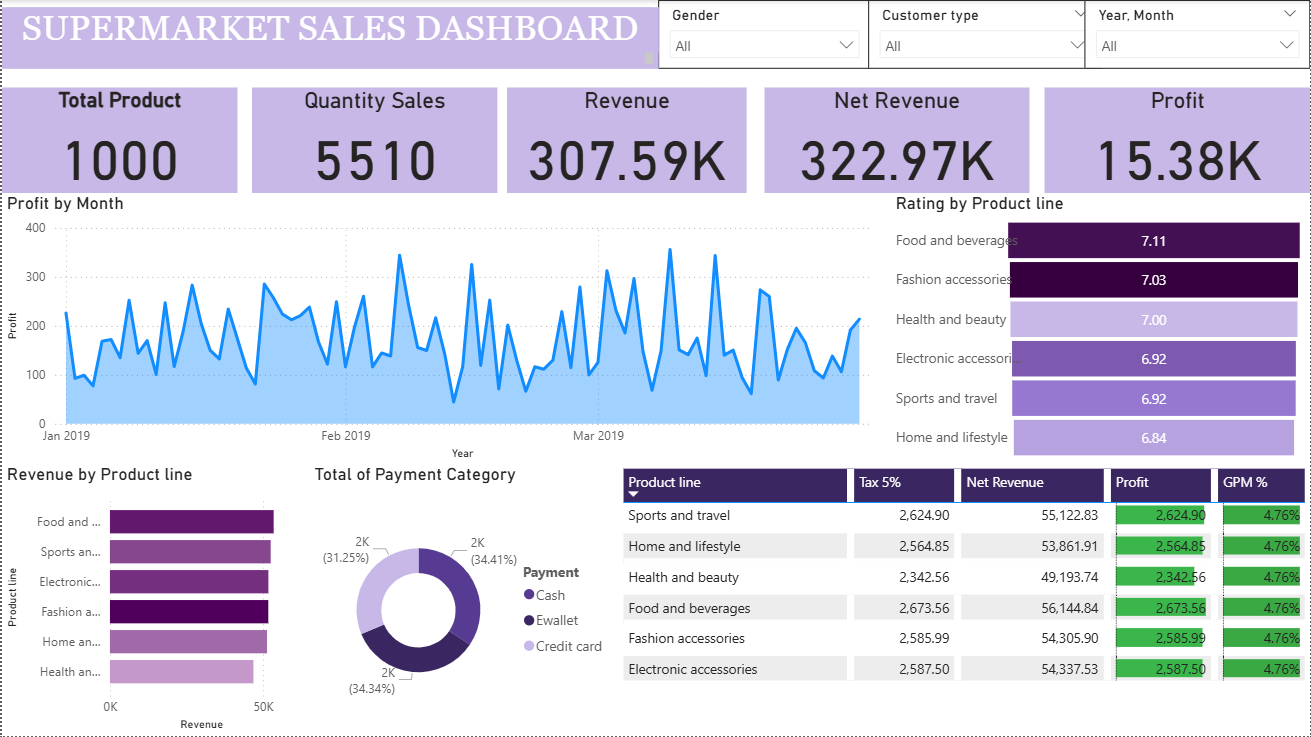

The dashboard page shown, as its layout file describes it:
{"tool":"powerbi","page":{"name":"Page 1","canvas":[1280,720],"ordinal":0},"visuals":[{"type":"tableEx","fields":{"Values":["SuperMarket Analysis.Product line","SuperMarket Analysis.Tax 5%","SuperMarket Analysis.Net Revenue","SuperMarket Analysis.Profit","SuperMarket Analysis.GPM"]},"box":[601,454.2,679.2,256.6],"z":0},{"type":"donutChart","title":"Total of Payment  Category","fields":{"Y":["Sum(SuperMarket Analysis.Quantity)"],"Category":["SuperMarket Analysis.Payment"]},"box":[300.5,454.2,300.5,266.2],"z":1000},{"type":"barChart","fields":{"Category":["SuperMarket Analysis.Product line"],"Y":["SuperMarket Analysis.Revenue"]},"box":[0,454.2,300.5,266.2],"z":2000},{"type":"areaChart","title":"Profit by Month","fields":{"Y":["SuperMarket Analysis.Profit"],"Category":["SuperMarket Analysis.Date.Variation.Date Hierarchy.Year","SuperMarket Analysis.Date.Variation.Date Hierarchy.Quarter","SuperMarket Analysis.Date.Variation.Date Hierarchy.Month","SuperMarket Analysis.Date.Variation.Date Hierarchy.Day"]},"box":[0,188,870,266.2],"z":3000},{"type":"funnel","title":"Rating by Product line","fields":{"Y":["Avg(SuperMarket Analysis.Rating)"],"Category":["SuperMarket Analysis.Product line"]},"box":[870,188,410.3,266.2],"z":4000},{"type":"card","title":"Total Product","fields":{"Values":["CountNonNull(SuperMarket Analysis.Product line)"]},"box":[0,85.1,230.5,102.9],"z":5000},{"type":"card","title":"Quantity Sales","fields":{"Values":["Sum(SuperMarket Analysis.Quantity)"]},"box":[244.3,85.1,240.1,102.9],"z":6000},{"type":"card","title":"Revenue","fields":{"Values":["SuperMarket Analysis.Revenue"]},"box":[494,85.1,234.6,102.9],"z":7000},{"type":"card","title":"Net Revenue","fields":{"Values":["SuperMarket Analysis.Net Revenue"]},"box":[746.5,85.1,259.3,102.9],"z":8000},{"type":"card","title":"Profit","fields":{"Values":["SuperMarket Analysis.Profit"]},"box":[1019.6,85.1,260.7,102.9],"z":9000},{"type":"slicer","fields":{"Values":["SuperMarket Analysis.Gender"]},"box":[642.2,0,207.2,67.2],"z":10000},{"type":"slicer","fields":{"Values":["SuperMarket Analysis.Customer type"]},"box":[848,0,227.8,67.2],"z":11000},{"type":"slicer","fields":{"Values":["SuperMarket Analysis.Date.Variation.Date Hierarchy.Year","SuperMarket Analysis.Date.Variation.Date Hierarchy.Month"]},"box":[1059.4,0,220.9,67.2],"z":12000},{"type":"textbox","title":"SUPERMARKET SALES DASHBOARD","box":[0,6.9,642.2,60.4],"z":13000}]}

Visuals, with their boxes in screenshot pixels (x1, y1, x2, y2), scaled from the page's 1280x720 canvas onto the 1311x737 screenshot:
tableEx - SuperMarket Analysis.Product line x SuperMarket Analysis.Tax 5%: (x1=616, y1=465, x2=1310, y2=728)
"Total of Payment  Category" donutChart: (x1=308, y1=465, x2=616, y2=736)
barChart - SuperMarket Analysis.Product line x SuperMarket Analysis.Revenue: (x1=0, y1=465, x2=308, y2=736)
"Profit by Month" areaChart: (x1=0, y1=192, x2=891, y2=465)
"Rating by Product line" funnel: (x1=891, y1=192, x2=1310, y2=465)
"Total Product" card: (x1=0, y1=87, x2=236, y2=192)
"Quantity Sales" card: (x1=250, y1=87, x2=496, y2=192)
"Revenue" card: (x1=506, y1=87, x2=746, y2=192)
"Net Revenue" card: (x1=765, y1=87, x2=1030, y2=192)
"Profit" card: (x1=1044, y1=87, x2=1310, y2=192)
slicer - SuperMarket Analysis.Gender: (x1=658, y1=0, x2=870, y2=69)
slicer - SuperMarket Analysis.Customer type: (x1=869, y1=0, x2=1102, y2=69)
slicer - SuperMarket Analysis.Date.Variation.Date Hierarchy.Year x SuperMarket Analysis.Date.Variation.Date Hierarchy.Month: (x1=1085, y1=0, x2=1310, y2=69)
"SUPERMARKET SALES DASHBOARD" textbox: (x1=0, y1=7, x2=658, y2=69)
